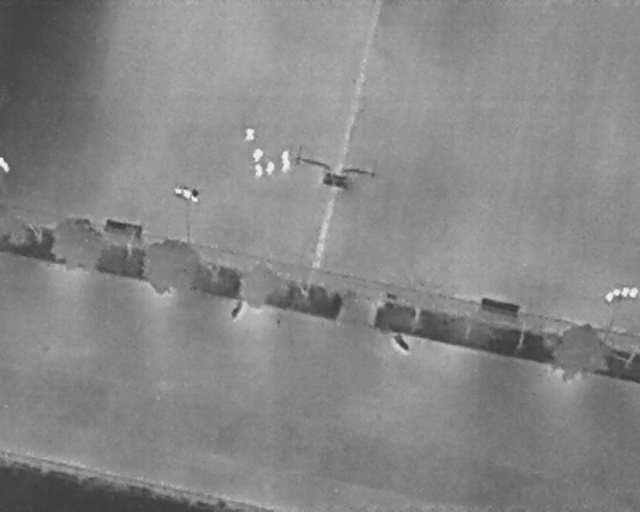Person: (265, 161, 275, 177), (253, 148, 264, 162), (244, 128, 255, 141), (281, 149, 291, 163), (255, 163, 263, 179), (282, 160, 291, 173)
